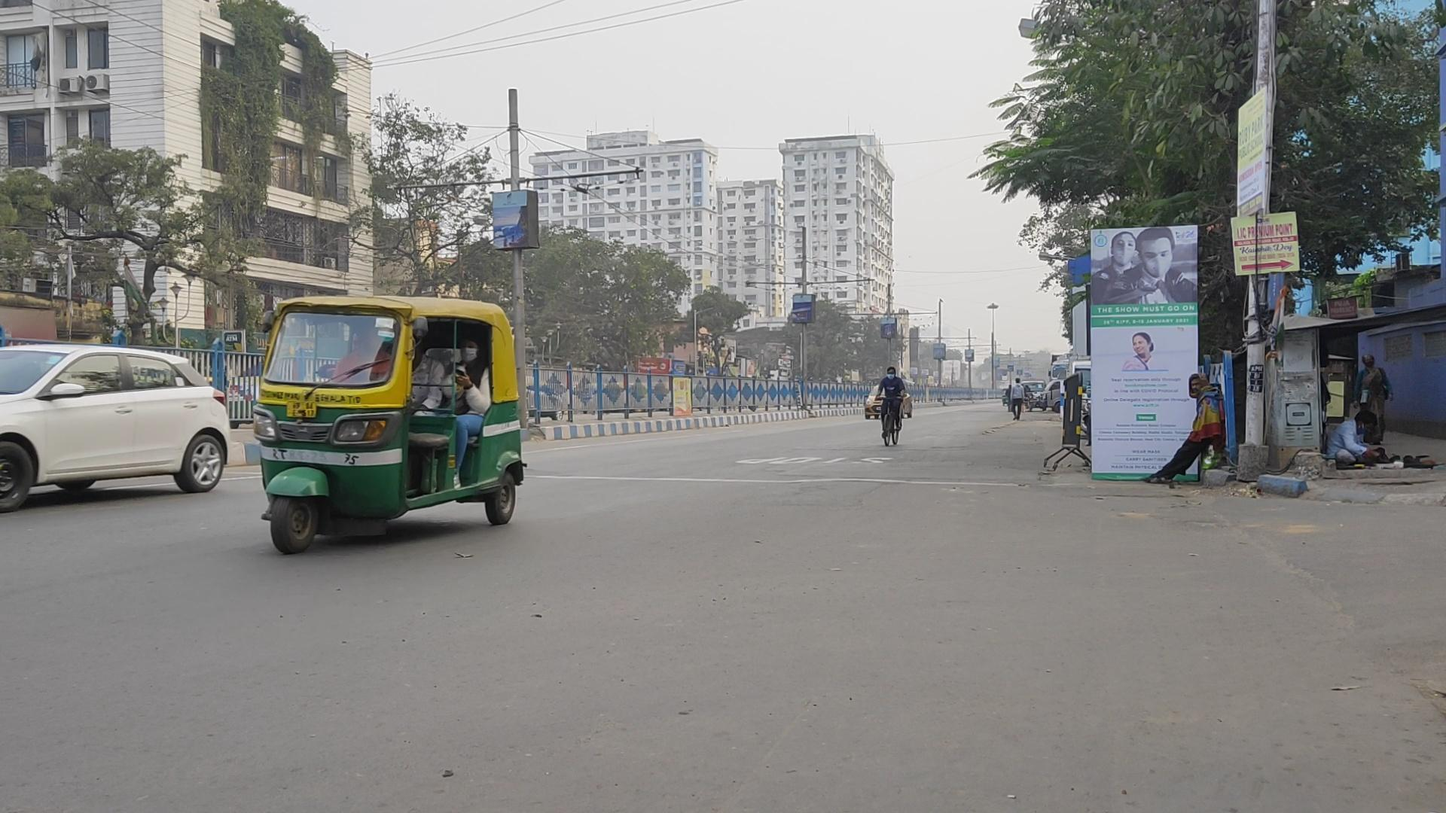Auto: (252, 294, 529, 554)
bike: (875, 367, 905, 446)
car: (1, 341, 232, 512), (865, 383, 913, 419), (1021, 378, 1047, 411)
